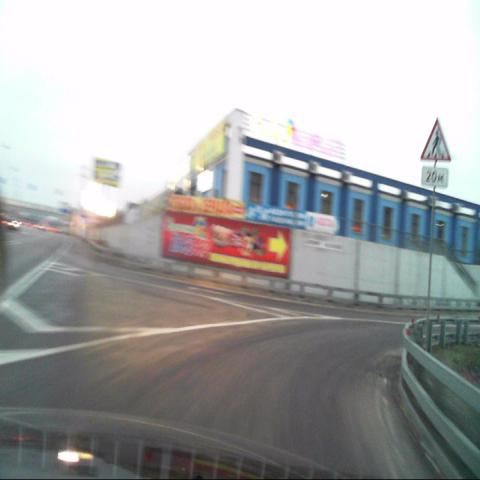8_1_1: (422, 166, 448, 187)
